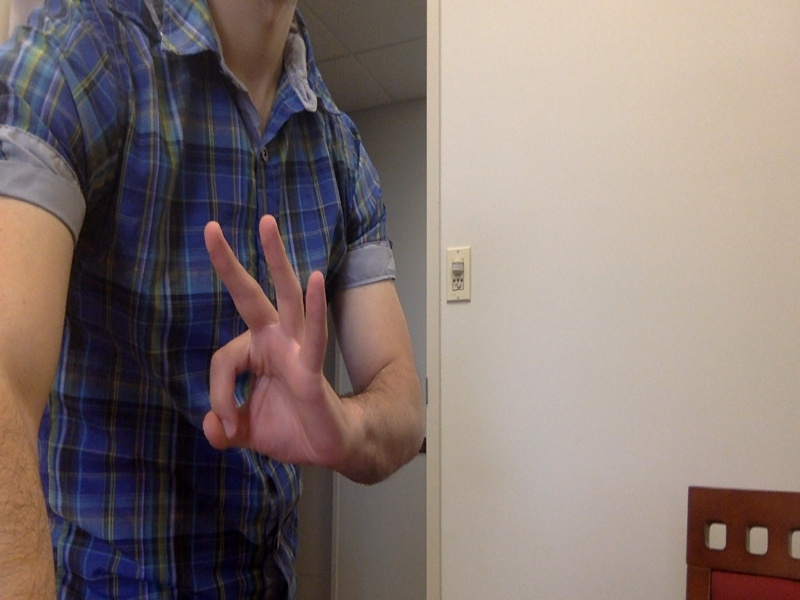3-hand: (189, 211, 356, 482)
